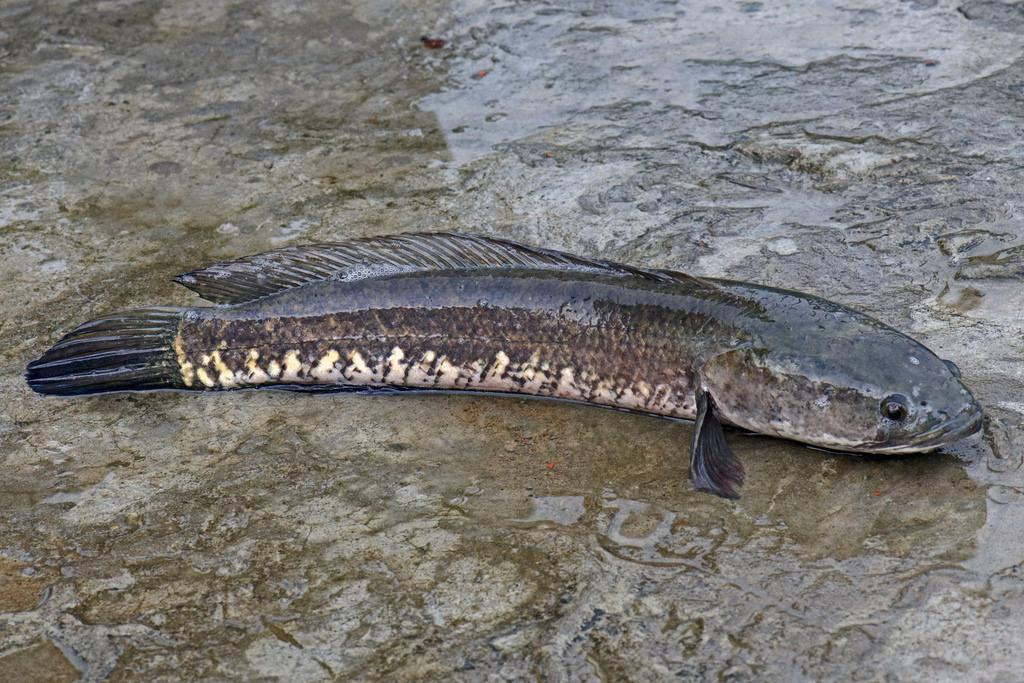Mudfish: (9, 222, 1002, 497)
